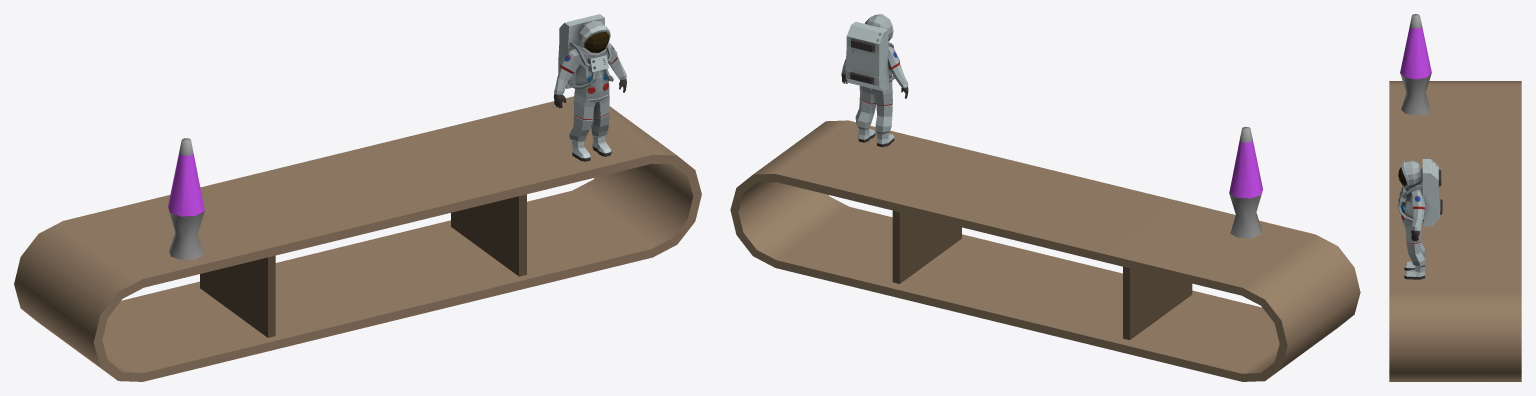
The model's file is Shelf.glb.
3 renders of one model, left to right at view 1: azimuth 30°, elevation 25°; view 2: azimuth 150°, elevation 25°; view 3: azimuth 270°, elevation 25°, orthographic. The views are drawn at different scales.
Visible parts, largest first — view 1: SM_Shelf:SM_Shelf1, Astronaut_mesh, Node; view 2: SM_Shelf:SM_Shelf1, Astronaut_mesh, Node; view 3: SM_Shelf:SM_Shelf1, Astronaut_mesh, Node.
Part boxes in pixels (<box>): SM_Shelf:SM_Shelf1: <box>14,96,701,381</box>; Astronaut_mesh: <box>554,14,626,161</box>; Node: <box>168,138,204,259</box>; SM_Shelf:SM_Shelf1: <box>730,120,1360,381</box>; Astronaut_mesh: <box>841,14,908,147</box>; Node: <box>1229,127,1262,238</box>; SM_Shelf:SM_Shelf1: <box>1389,81,1521,381</box>; Astronaut_mesh: <box>1398,159,1442,279</box>; Node: <box>1400,14,1431,115</box>.
Size of the model in its own units: 1.81 by 0.6765 by 0.4106.
Materials: 6 (1 with a texture image).
